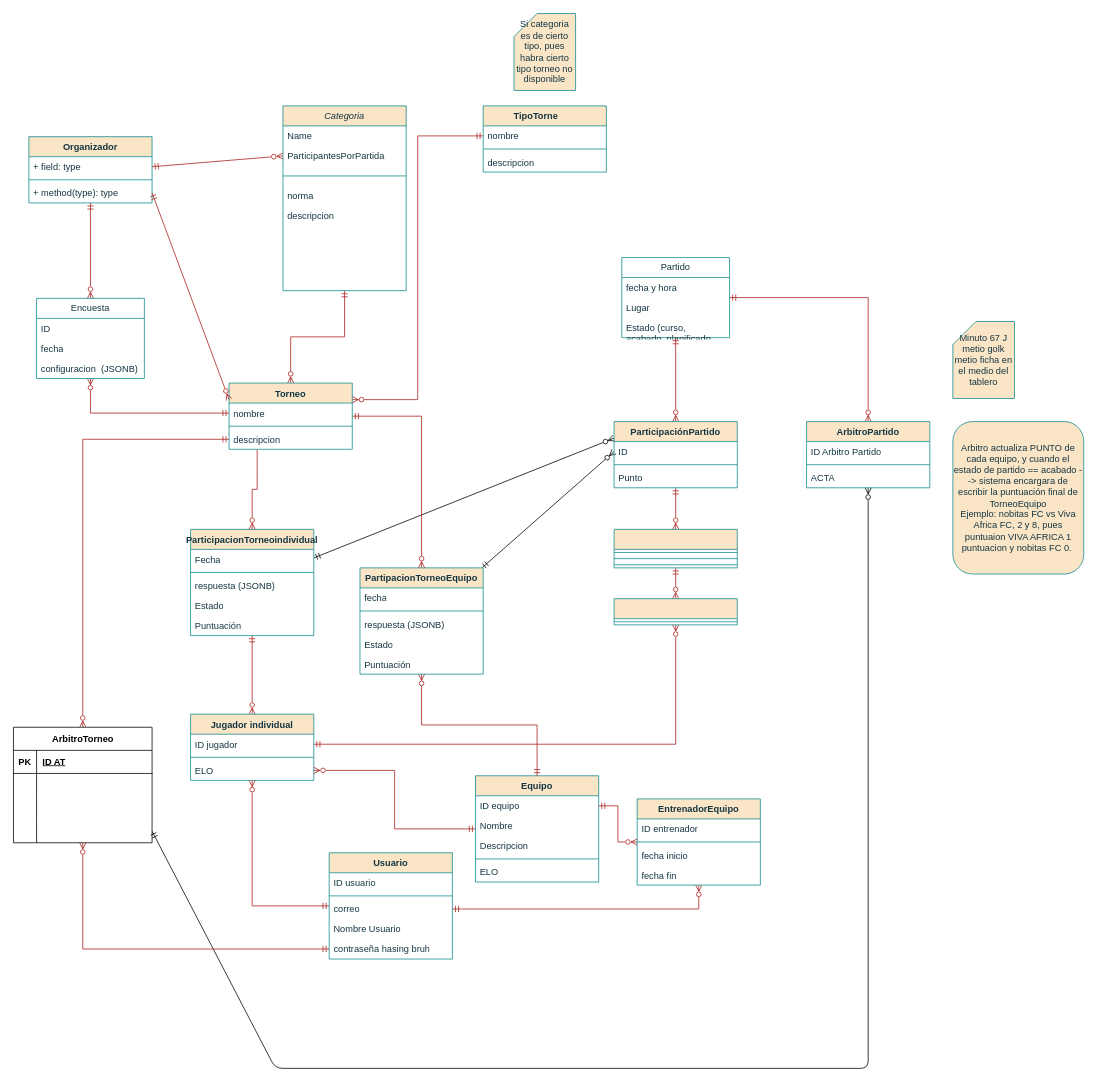
This 1097x1089 diagram has some shape labels left out. Here are the shapes that lost their labels. From the top down, the centre of each, then its label:
the point at 675,548: Convocatoria
the point at 675,611: JugadorConvocatoria
